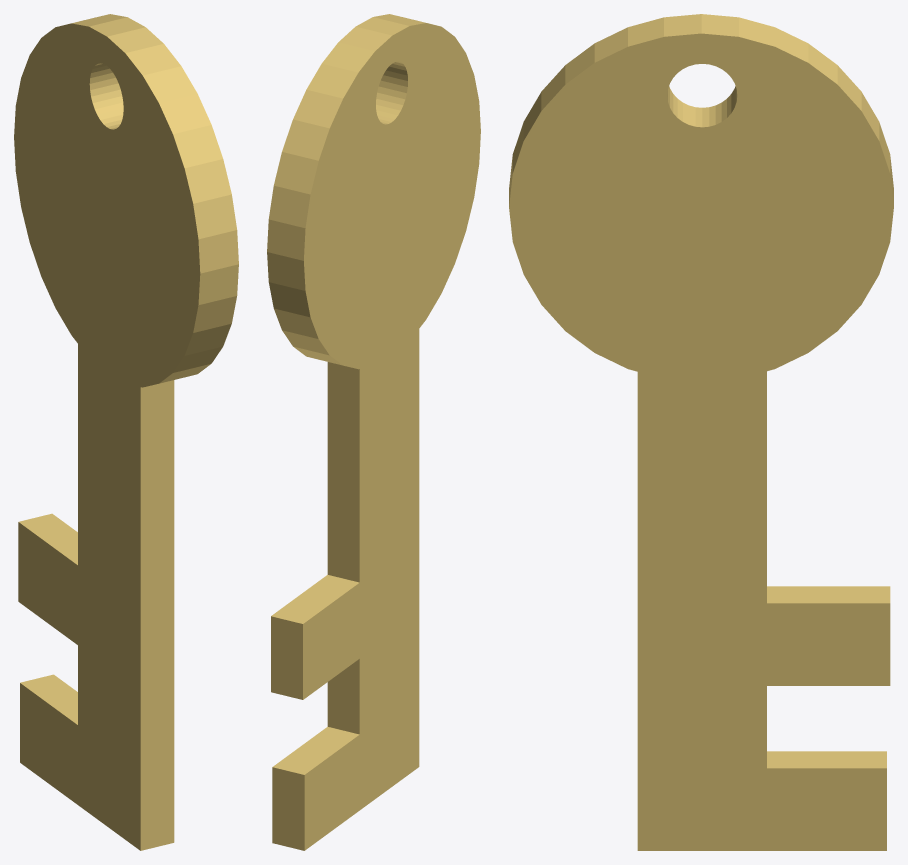
Rendered from Key.fbx.
The picture shows the model from 3 angles, left to right: view 1: azimuth 30°, elevation 25°; view 2: azimuth 150°, elevation 25°; view 3: azimuth 270°, elevation 25°; orthographic projection. The views are drawn at different scales.
Visible parts, largest first — view 1: Key; view 2: Key; view 3: Key.
Part boxes in pixels (left/top/right/bottom): Key: left=14, top=14, right=238, bottom=850; Key: left=267, top=14, right=480, bottom=850; Key: left=509, top=14, right=893, bottom=850.
Bounding box in the file's own units: 24 × 469 × 200.
